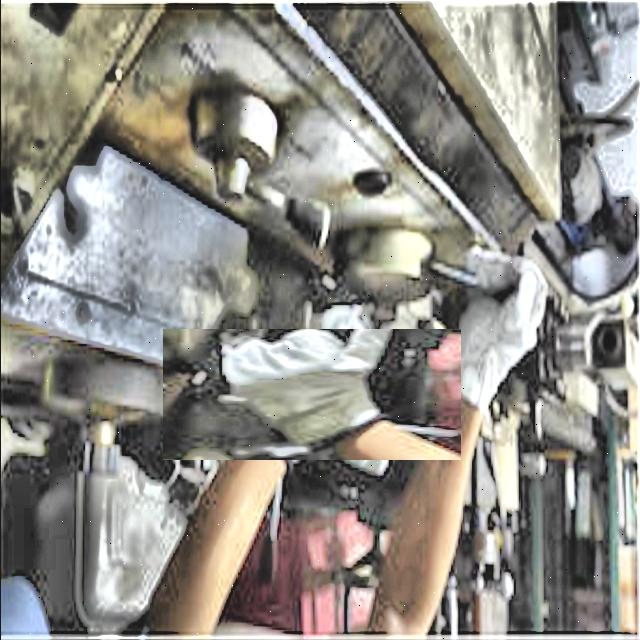gloved: (204, 287, 419, 502), (443, 208, 552, 428)
